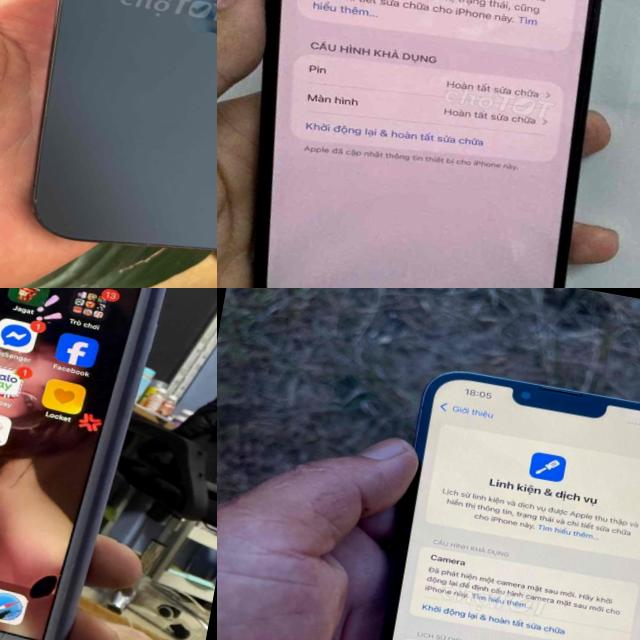gen_12_13: (217, 0, 640, 288), (347, 354, 640, 640)
gen_15: (0, 0, 217, 288)
gen_7_8: (0, 288, 183, 640)
physical_damage: (5, 590, 46, 617), (50, 554, 80, 580)
screen_defect: (22, 568, 62, 602), (0, 595, 17, 637)
